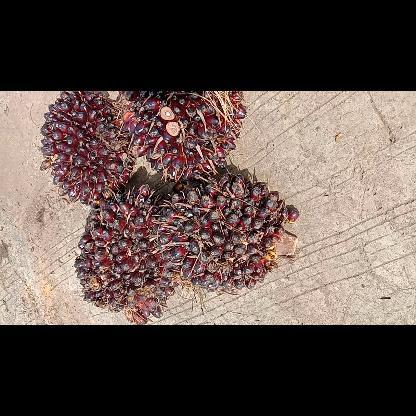TBS mentah: (152, 171, 302, 295), (70, 184, 181, 324), (114, 91, 248, 185), (38, 90, 140, 208)
